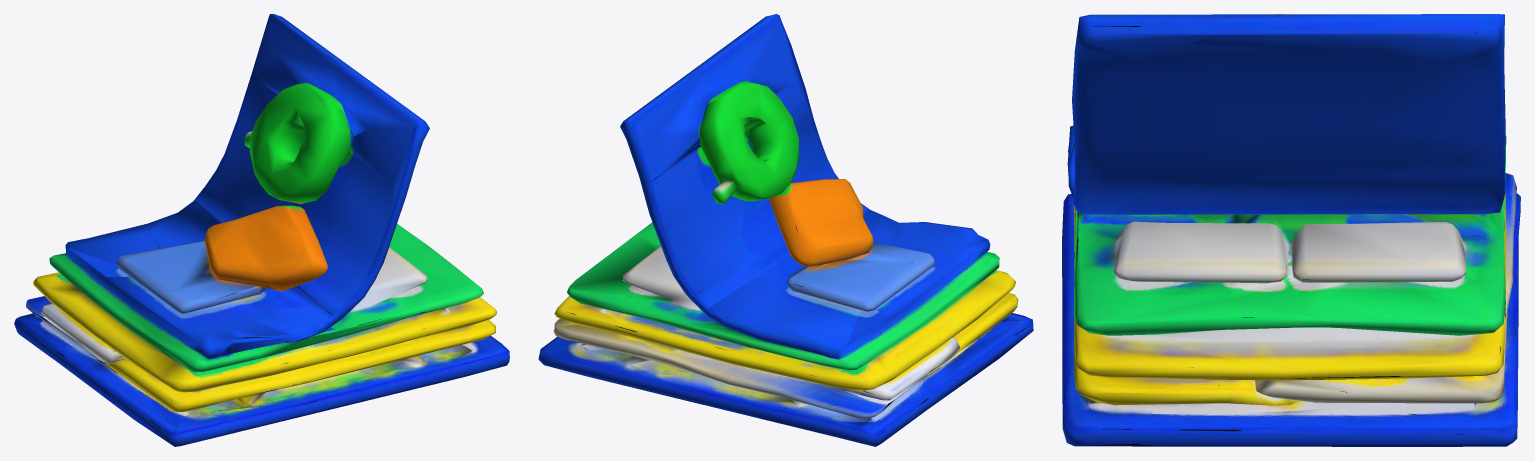
Rendered from posters.glb.
The picture shows the model from 3 angles, left to right: view 1: azimuth 30°, elevation 25°; view 2: azimuth 150°, elevation 25°; view 3: azimuth 270°, elevation 25°; orthographic projection. The views are drawn at different scales.
Parts seen in each view (by area): view 1: low; view 2: low; view 3: low.
Boxes of the visible parts, box(x1,y1,x2,y2) form: low: box(14, 14, 509, 446); low: box(538, 14, 1033, 446); low: box(1062, 14, 1520, 446).
Bounding box in the file's own units: 0.9766 × 0.713 × 0.7935.
1 material, 1 textured.
